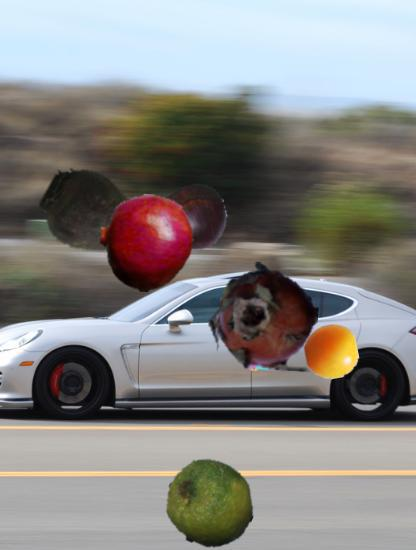Beetroot: (36, 154, 169, 287)
Cherry: (304, 325, 358, 379)
Chestnut: (156, 183, 227, 254)
Limes: (165, 459, 255, 549)
Pitahaya: (209, 262, 319, 372)
Pomegranate: (98, 194, 196, 292)
